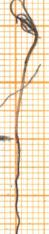flower: (0, 0, 42, 36)
root: (12, 136, 25, 234)
stem: (12, 35, 40, 141)
